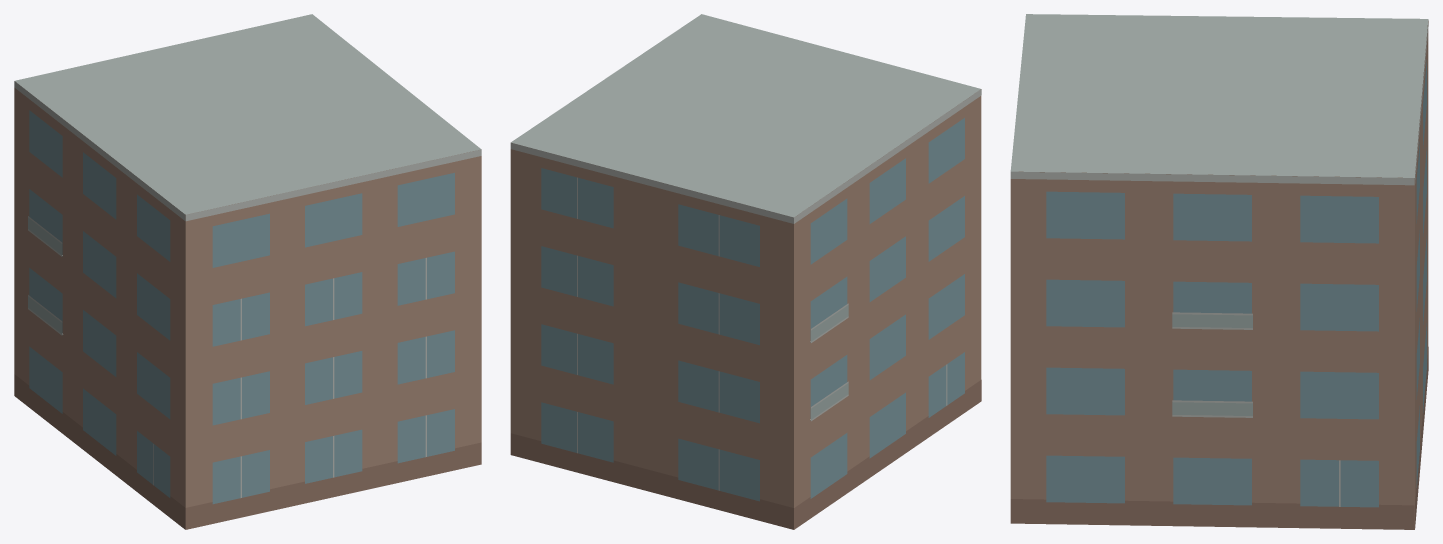
The model's file is survey-upis-32779325.glb.
3 views of the same model, side by side, from view 1: azimuth 30°, elevation 25°; view 2: azimuth 150°, elevation 25°; view 3: azimuth 270°, elevation 25° (orthographic). The views are drawn at different scales.
Visible parts, largest first — view 1: survey-upis-32779325.tmp; view 2: survey-upis-32779325.tmp; view 3: survey-upis-32779325.tmp.
Boxes of the visible parts, left/top/right/bottom form: survey-upis-32779325.tmp: left=14, top=14, right=481, bottom=529; survey-upis-32779325.tmp: left=510, top=14, right=981, bottom=529; survey-upis-32779325.tmp: left=1010, top=14, right=1428, bottom=529.
Bounding box in the file's own units: 11.7 × 11.7 × 12.6.
